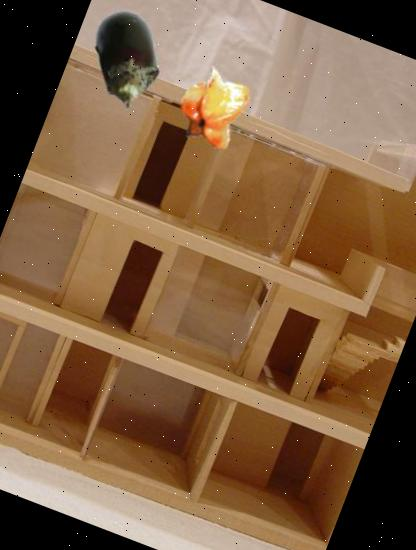Carambula: (159, 53, 268, 162)
Eggplant: (63, 0, 192, 124)
